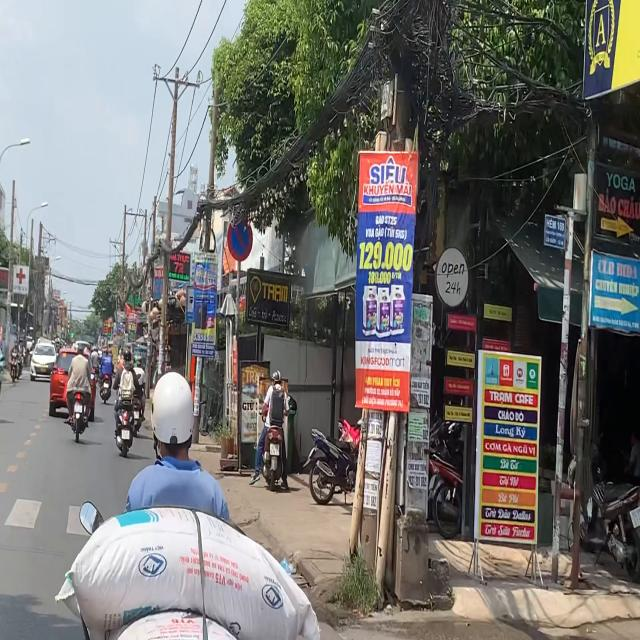Cam do: (228, 215, 254, 261)
